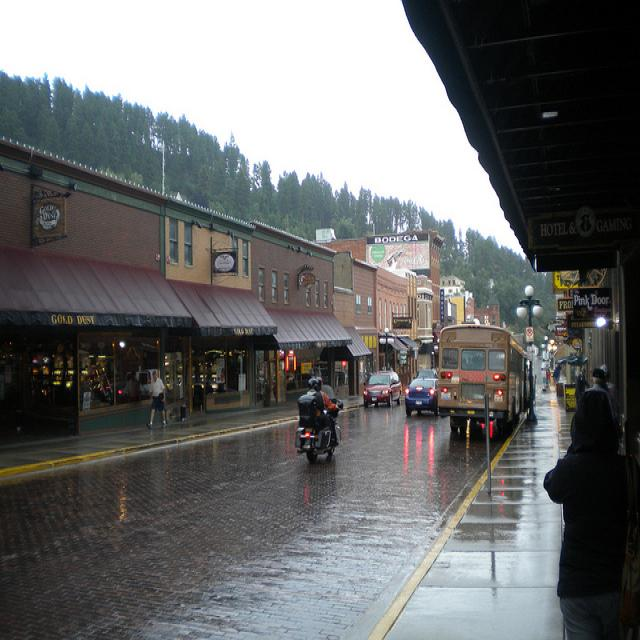motor: (294, 397, 343, 464)
